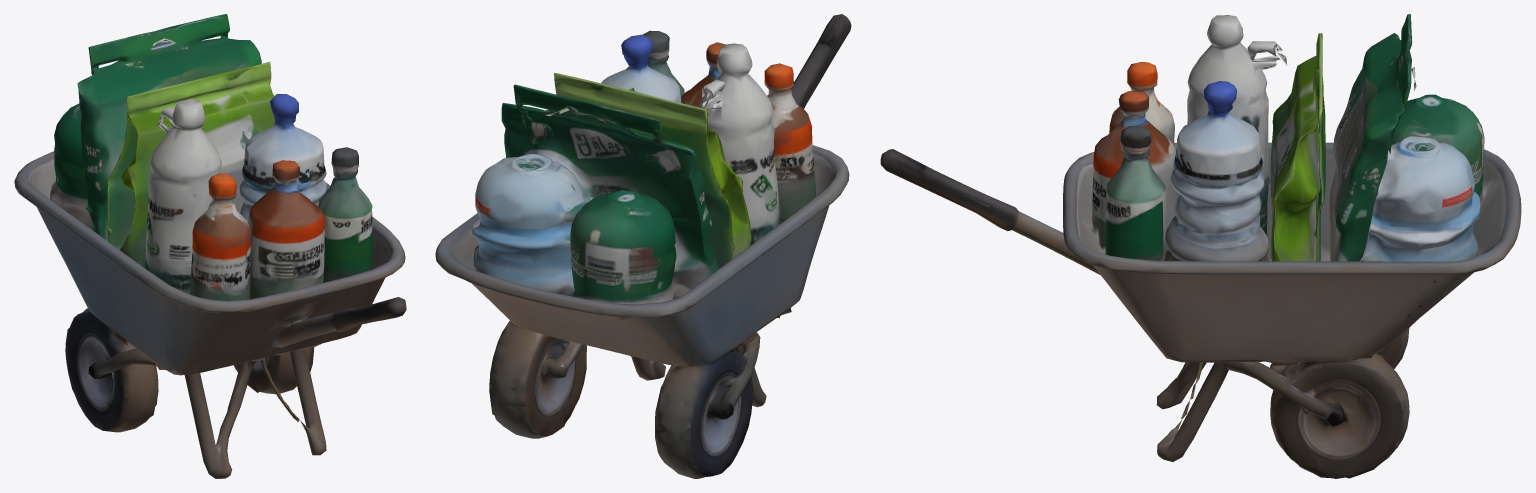
Rendered from purewater.glb.
The picture shows the model from 3 angles, left to right: view 1: azimuth 30°, elevation 25°; view 2: azimuth 150°, elevation 25°; view 3: azimuth 270°, elevation 25°; orthographic projection. The views are drawn at different scales.
Visible parts, largest first — view 1: tripo_node_14d57b95-696c-4e8c-86f5-97f026ab0a2c; view 2: tripo_node_14d57b95-696c-4e8c-86f5-97f026ab0a2c; view 3: tripo_node_14d57b95-696c-4e8c-86f5-97f026ab0a2c.
Boxes of the visible parts, left/top/right/bottom form: tripo_node_14d57b95-696c-4e8c-86f5-97f026ab0a2c: left=14, top=14, right=406, bottom=478; tripo_node_14d57b95-696c-4e8c-86f5-97f026ab0a2c: left=435, top=14, right=851, bottom=478; tripo_node_14d57b95-696c-4e8c-86f5-97f026ab0a2c: left=880, top=14, right=1521, bottom=478.
Size of the model in its own units: 0.8368 by 1.2 by 1.8.
Materials: 1 (1 with a texture image).
